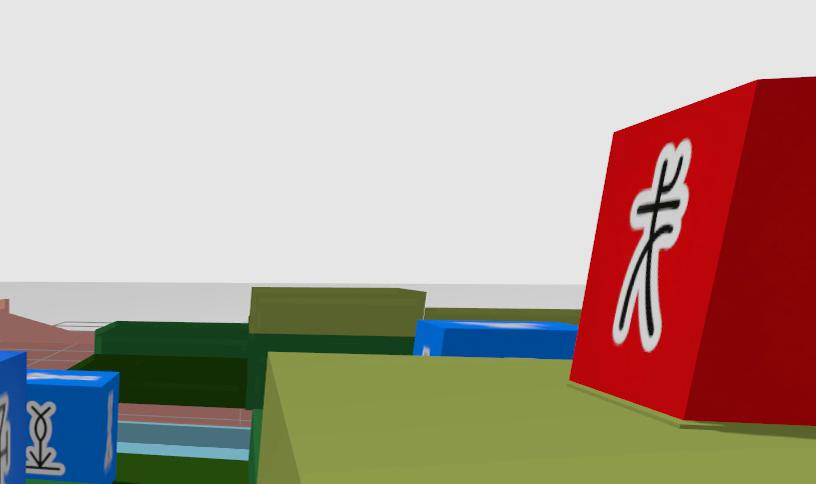KFS_FAKE: (414, 44, 816, 426), (612, 139, 691, 351)
KFS_REAL: (25, 370, 119, 483), (25, 401, 65, 475), (0, 394, 10, 483)
